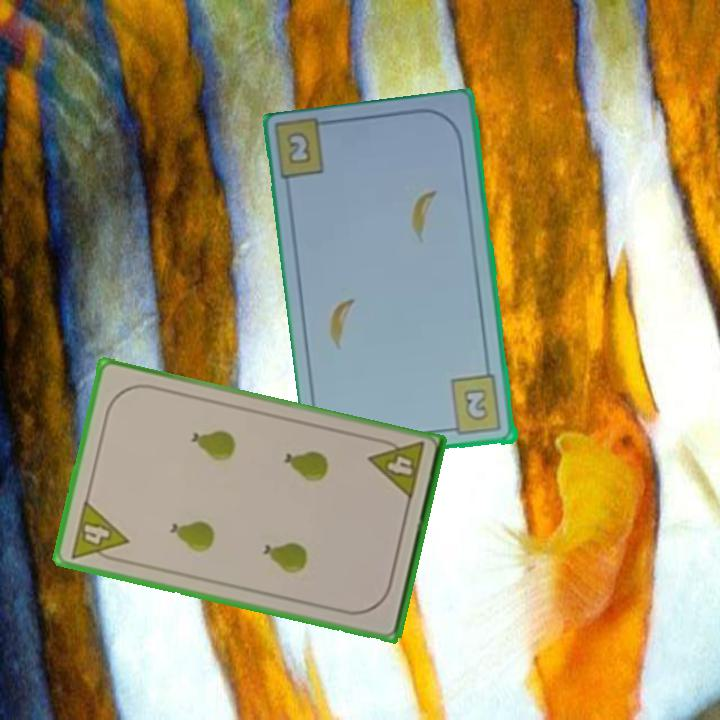2b: (443, 372, 505, 438), (283, 128, 315, 168)
4p: (66, 496, 131, 567), (365, 434, 427, 503)
